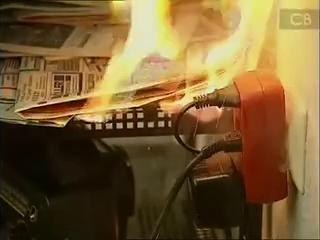Fire: (126, 13, 282, 122)
